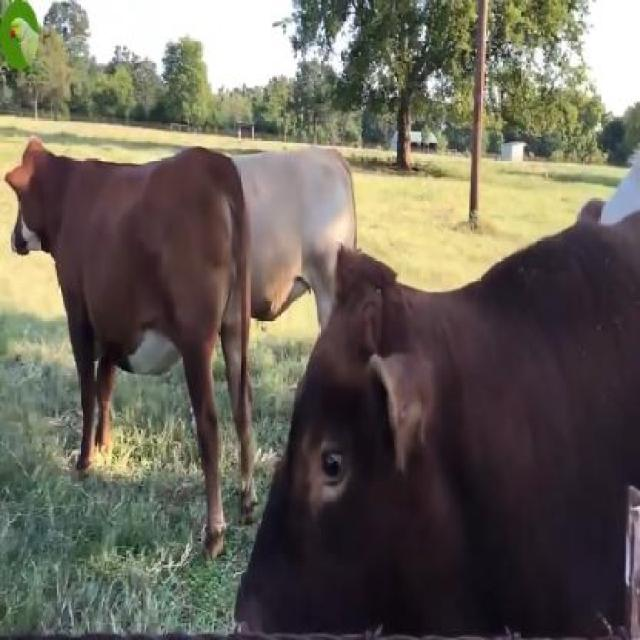Cow: (8, 148, 252, 554)
